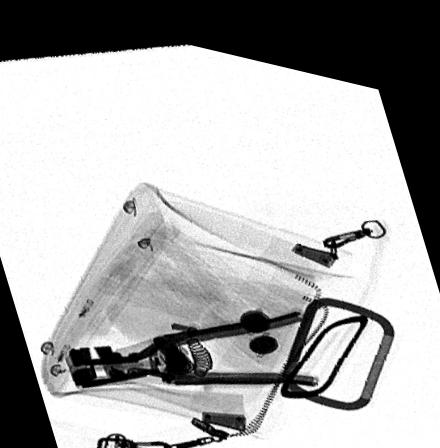Pliers: (61, 294, 317, 385)
